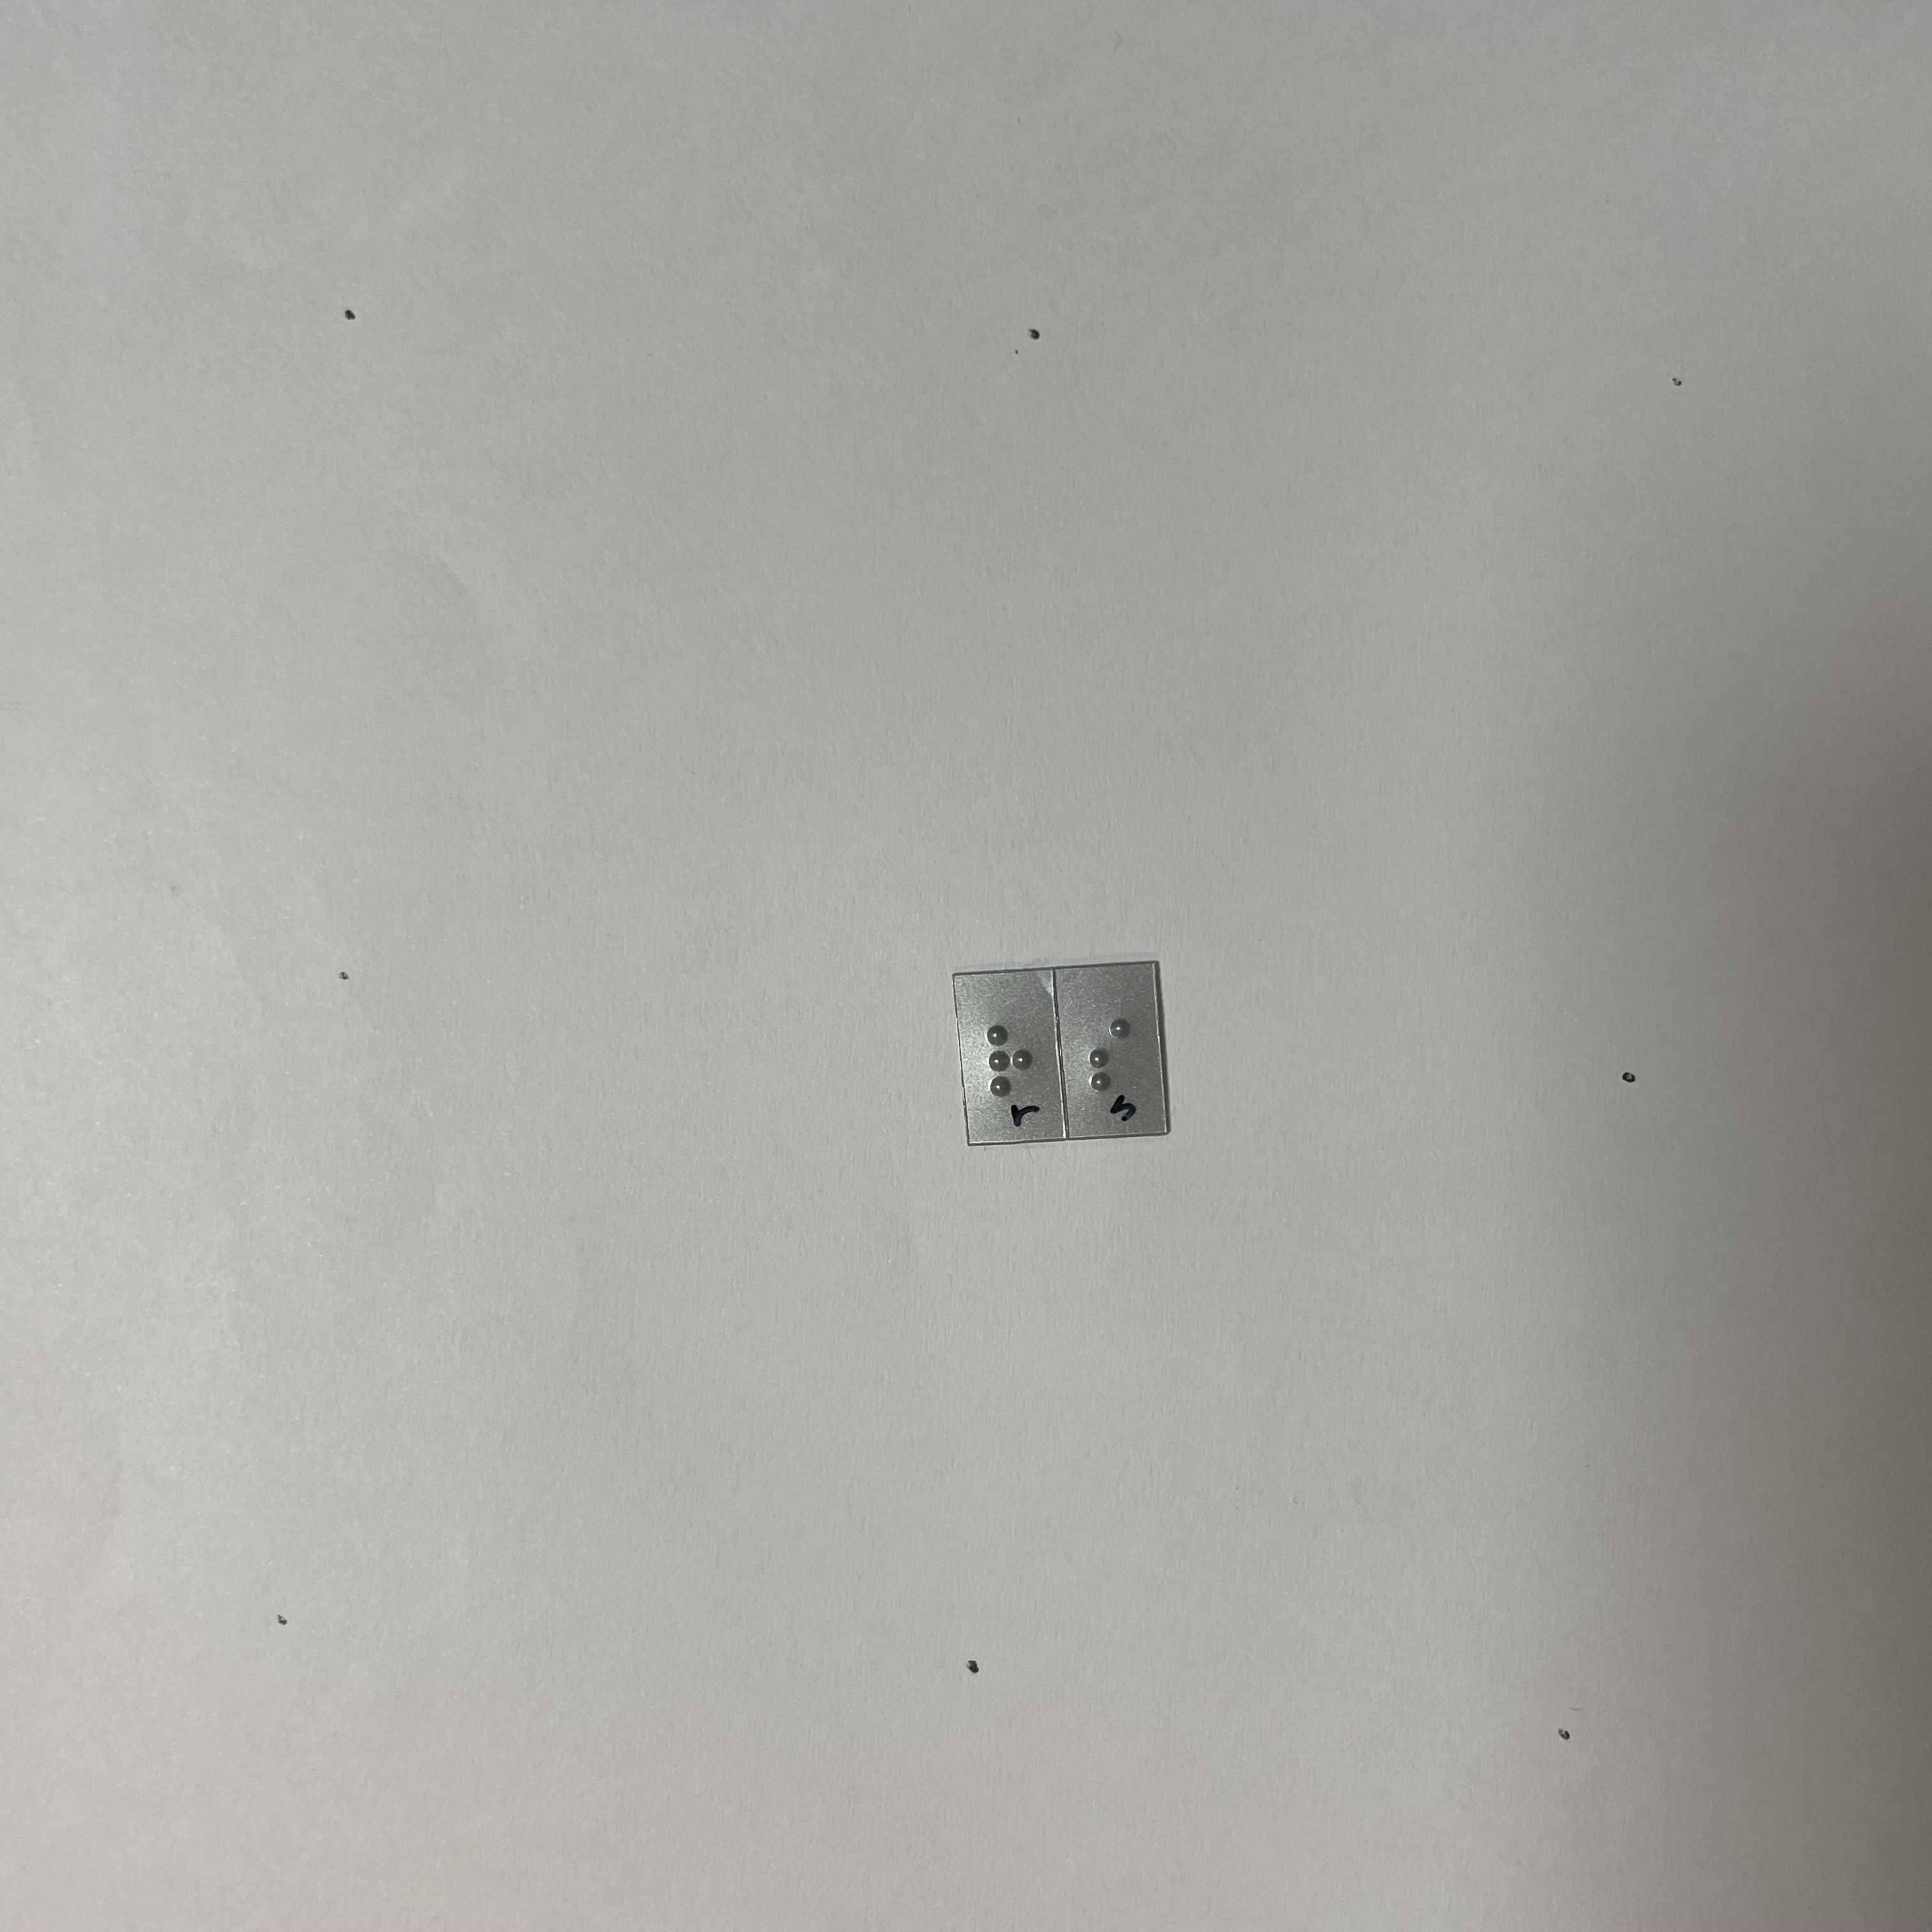r: (980, 1015, 1046, 1108)
s: (1084, 1013, 1146, 1098)
